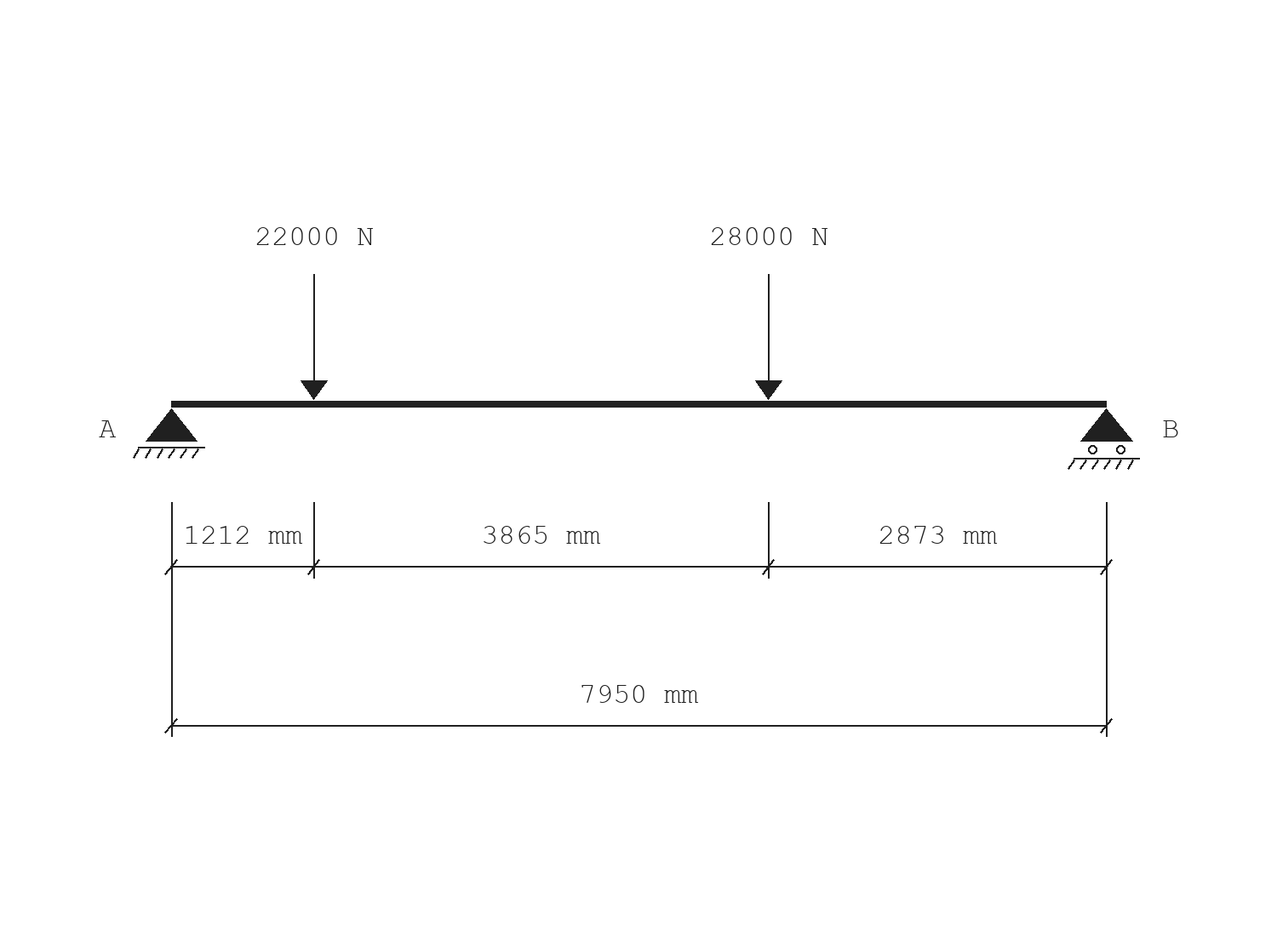pin_support: (133, 408, 205, 459)
point_load: (301, 274, 328, 400), (755, 274, 782, 400)
roller_support: (1068, 408, 1140, 470)
